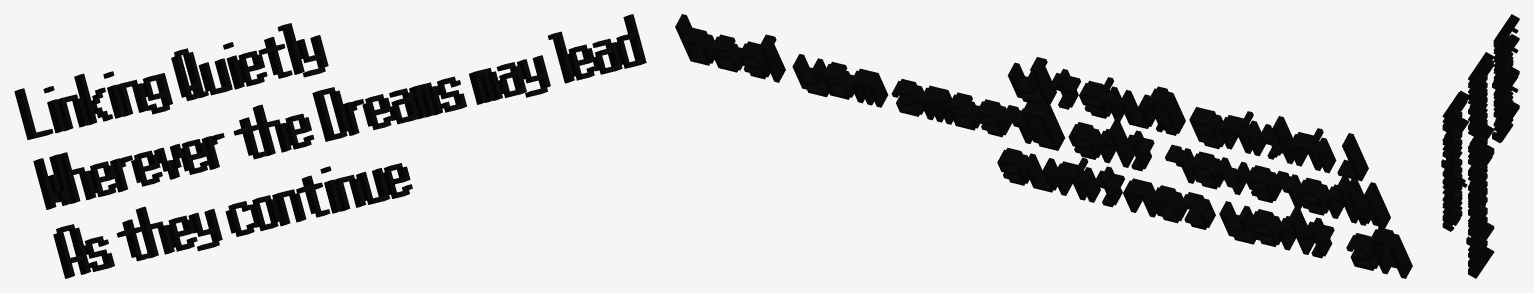
Rendered from Haiku_3D.glb.
3 renders of one model, left to right at view 1: azimuth 30°, elevation 25°; view 2: azimuth 150°, elevation 25°; view 3: azimuth 270°, elevation 25°, orthographic. The views are drawn at different scales.
Visible parts, largest first — view 1: mesh_id40, mesh_id41, mesh_id39; view 2: mesh_id40, mesh_id41, mesh_id39; view 3: mesh_id40, mesh_id41, mesh_id39.
Part boxes in pixels (bbox=[...]): mesh_id40: bbox=[33, 14, 646, 209]; mesh_id41: bbox=[53, 163, 412, 278]; mesh_id39: bbox=[14, 23, 328, 139]; mesh_id40: bbox=[675, 14, 1390, 230]; mesh_id41: bbox=[997, 147, 1412, 278]; mesh_id39: bbox=[1007, 57, 1368, 181]; mesh_id40: bbox=[1466, 52, 1494, 278]; mesh_id41: bbox=[1441, 91, 1468, 231]; mesh_id39: bbox=[1492, 14, 1519, 142].
Bounding box in the file's own units: 0.779 × 0.2011 × 0.132.
Materials: 3 (3 with a texture image).
